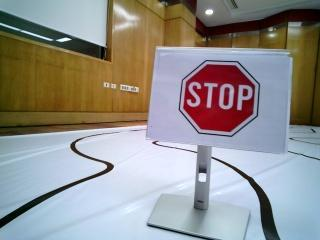stop: (156, 48, 277, 147)
